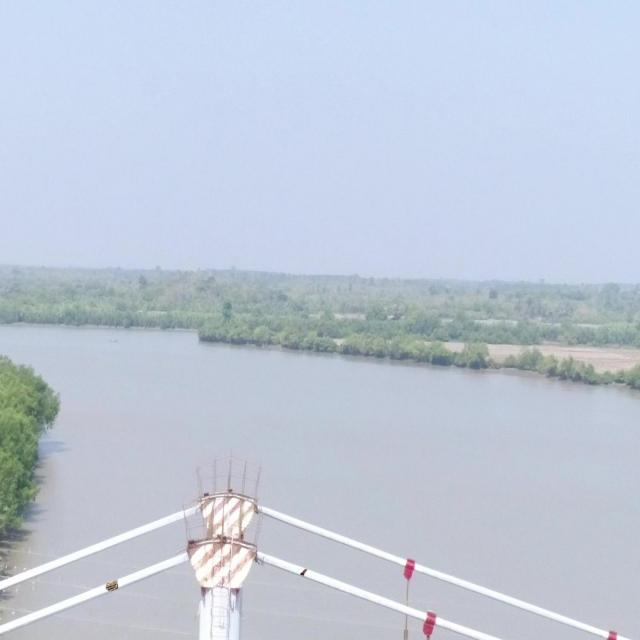corrosion: (105, 580, 118, 591), (299, 568, 307, 577)
